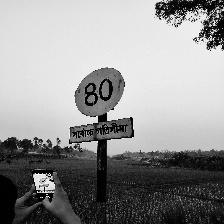Speed-limit: (70, 68, 132, 143)
